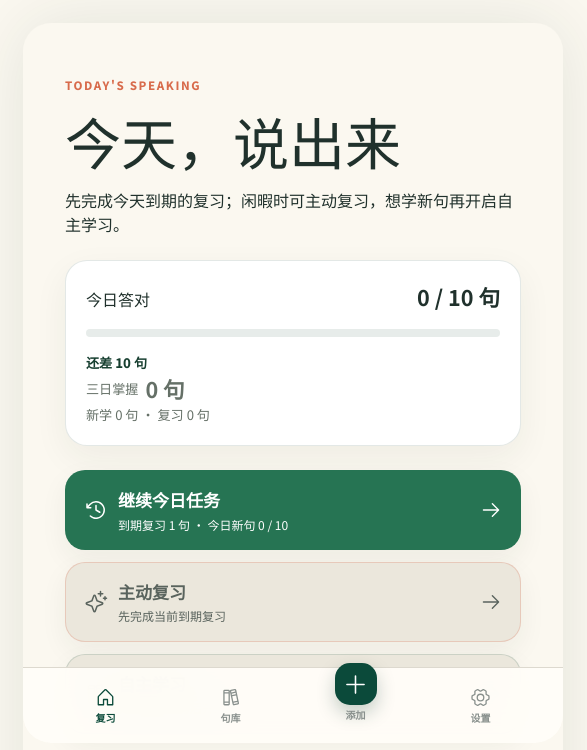
Scenario: PhraseBankApp › opens a learned phrase scheduled later on the same Shanghai day
The width and height of the screenshot is (587, 750).
What coordinates should you click on to do the following:
click the button "继续今日任务 到期复习 1 句 · 今日新句 0 / 10"
I would click on:
 (169, 500)
Its box is [65, 470, 521, 550].
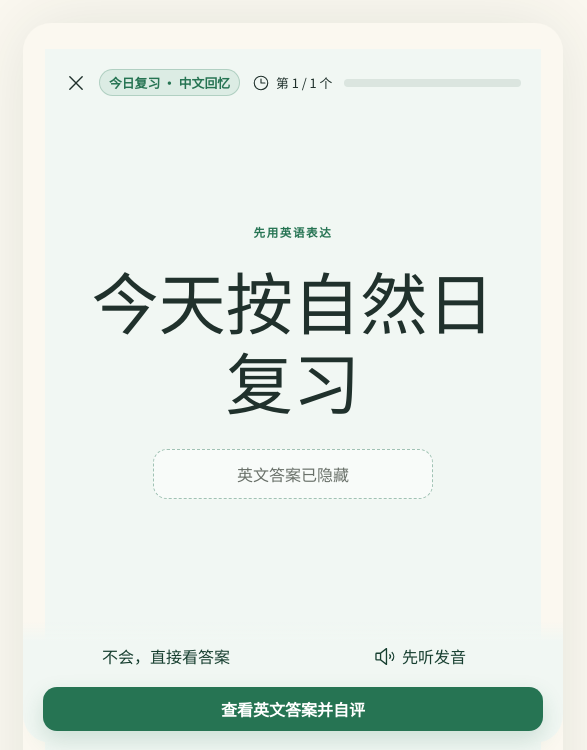
Result: the heading "今天按自然日复习" is shown at [65, 260, 521, 421]
